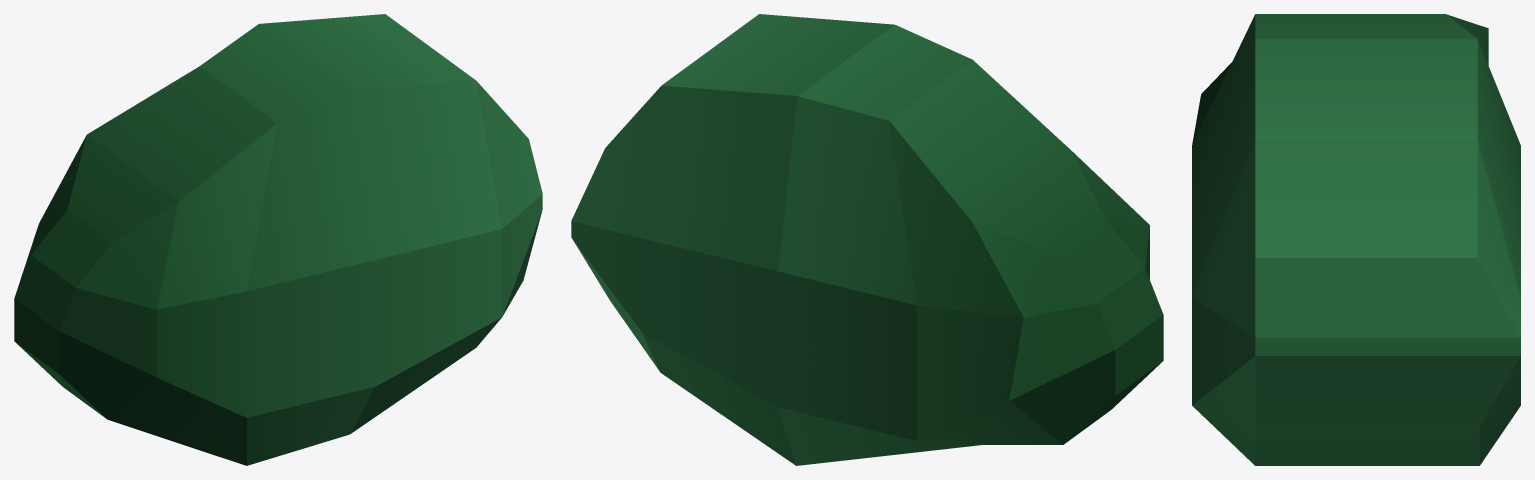
Rendered from Avocado.glb.
The picture shows the model from 3 angles, left to right: view 1: azimuth 30°, elevation 25°; view 2: azimuth 150°, elevation 25°; view 3: azimuth 270°, elevation 25°; orthographic projection. The views are drawn at different scales.
Parts seen in each view (by area): view 1: Cube; view 2: Cube; view 3: Cube.
Part boxes in pixels (x1,y1,x2,y2): Cube: (14,14,542,465); Cube: (571,14,1163,465); Cube: (1192,14,1520,465).
Size of the model in its own units: 2.29 by 1.63 by 1.15.
Materials: 1 (1 with a texture image).
